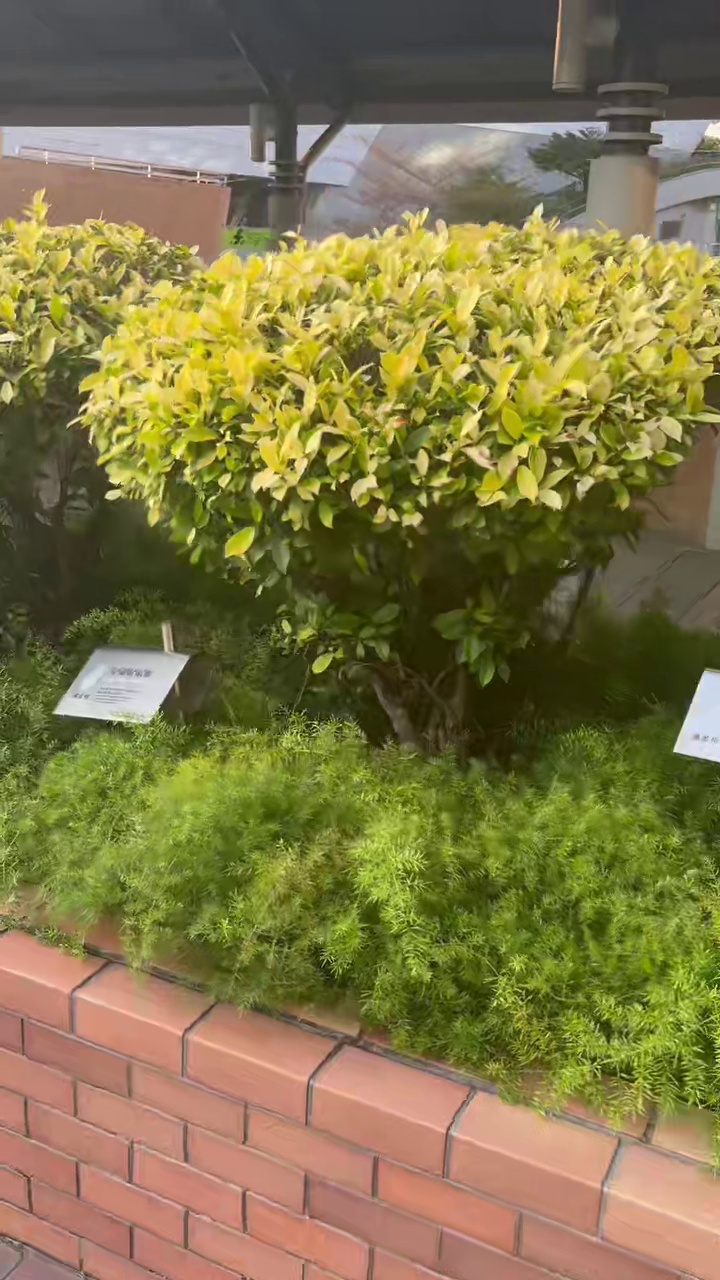Golden-leaves Fig: (78, 213, 719, 753)
